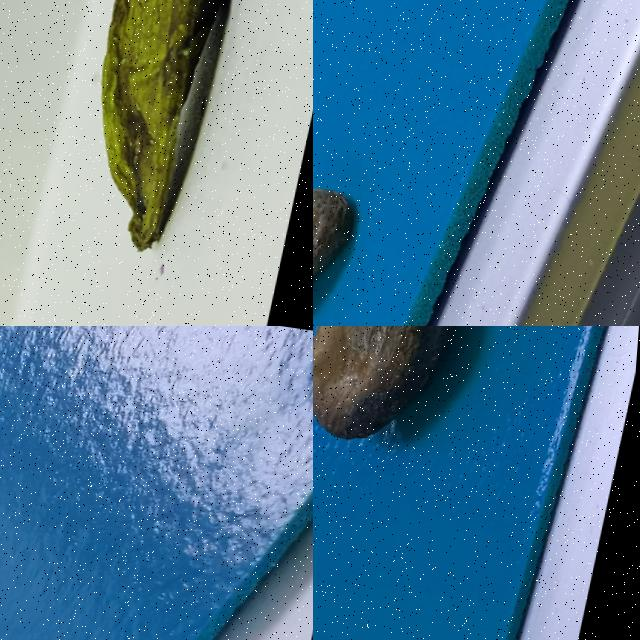Fine_cocoabeans: (313, 326, 527, 521)
Flat_cocoabeans: (29, 0, 292, 304)
